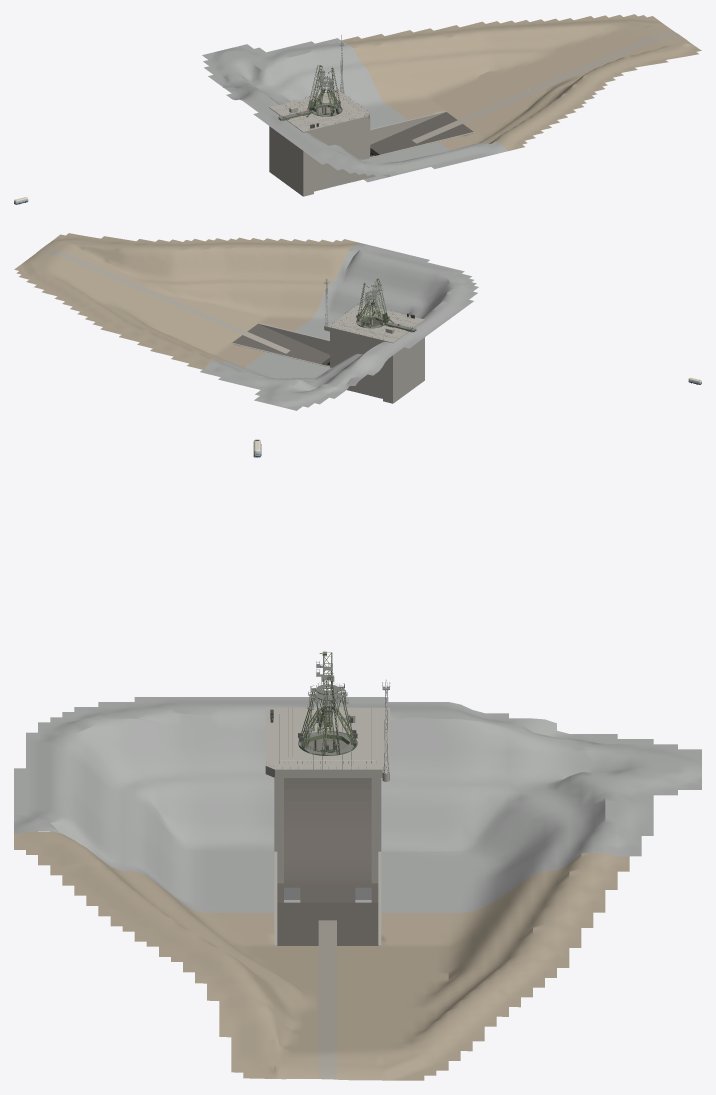
Rendered from pad.lod2.glb.
3 renders of one model, top to bottom at view 1: azimuth 30°, elevation 25°; view 2: azimuth 150°, elevation 25°; view 3: azimuth 270°, elevation 25°, orthographic. The views are drawn at different scales.
Visible parts, largest first — view 1: FlamePit_Earth, FlamePit_Lining, Platform_ConcretePylons, Platform_Concrete, FlamePit_Road, FlamePit_Scorch, FlamePit_ScorchSump; view 2: FlamePit_Earth, FlamePit_Lining, Platform_ConcretePylons, Platform_Concrete, FlamePit_Road, FlamePit_Scorch, FlamePit_ScorchSump; view 3: FlamePit_Lining, FlamePit_Earth, FlameDeflector_Scorch, Platform_Concrete, Platform_ConcretePylons, FlamePit_Scorch, FlamePit_Road, FlamePit_ScorchSump.
Part boxes in pixels (box(x1,y1,x2,y2)): FlamePit_Earth: box(341, 14, 701, 150); FlamePit_Lining: box(202, 38, 507, 176); Platform_ConcretePylons: box(269, 105, 474, 196); Platform_Concrete: box(281, 89, 369, 133); FlamePit_Road: box(412, 32, 680, 143); FlamePit_Scorch: box(370, 112, 473, 156); FlamePit_ScorchSump: box(370, 132, 418, 155); FlamePit_Earth: box(14, 233, 359, 369); FlamePit_Lining: box(200, 243, 478, 410); Platform_ConcretePylons: box(231, 317, 424, 403); Platform_Concrete: box(324, 304, 412, 343); FlamePit_Road: box(37, 248, 290, 353); FlamePit_Scorch: box(232, 324, 329, 366); FlamePit_ScorchSump: box(284, 342, 329, 365); FlamePit_Lining: box(14, 697, 701, 912); FlamePit_Earth: box(14, 831, 629, 1080); FlameDeflector_Scorch: box(277, 778, 378, 887); Platform_Concrete: box(265, 717, 389, 781); Platform_ConcretePylons: box(265, 707, 389, 945); FlamePit_Scorch: box(277, 887, 378, 945); FlamePit_Road: box(318, 920, 336, 1079); FlamePit_ScorchSump: box(277, 902, 378, 920).
Bounding box in the file's own units: 481 × 85.22 × 228.
